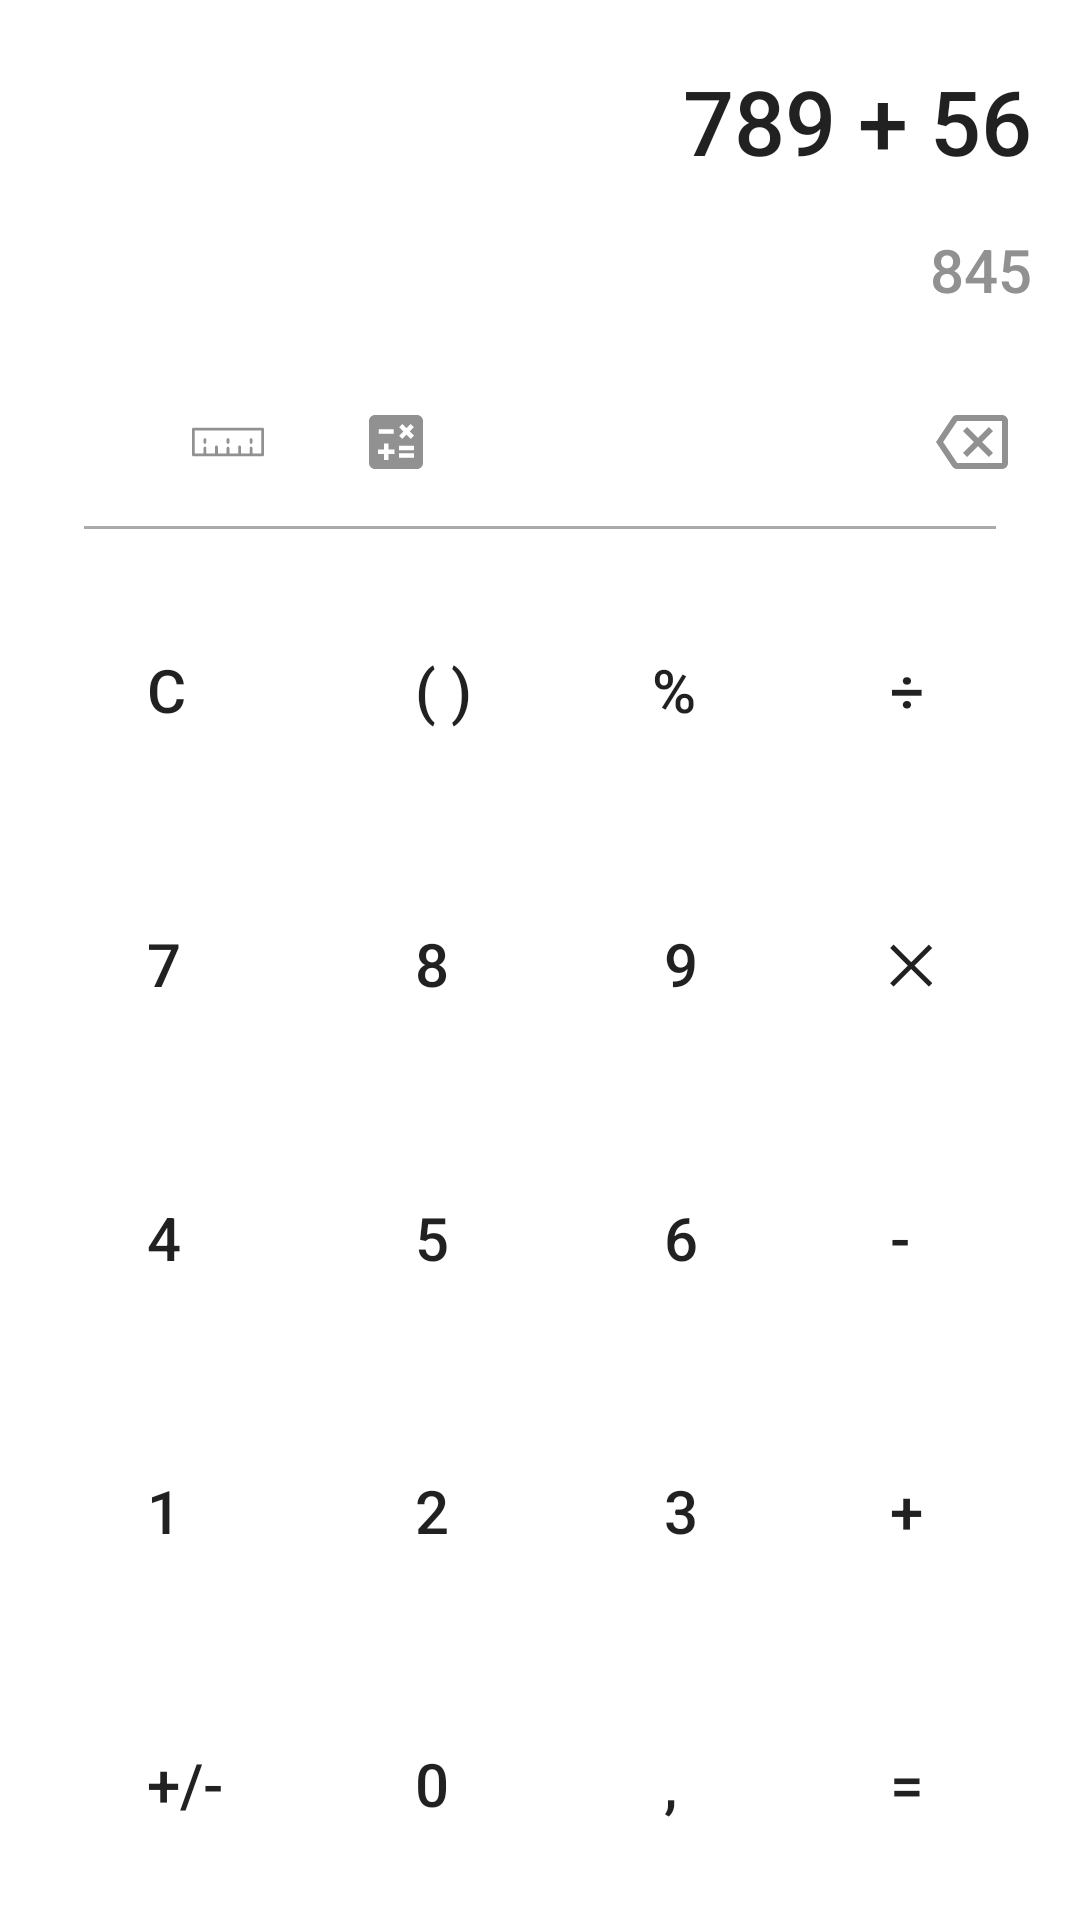

Where to tap for icons on this 1080px x 1920px app screen, as (x,y):
backspace: (972,442)
calculate: (396,442)
ruler: (228,442)
